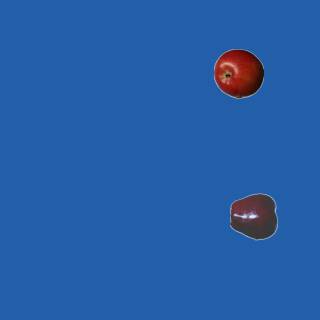Apple Braeburn: (213, 48, 263, 98)
Apple Red Delicious: (229, 191, 279, 241)
